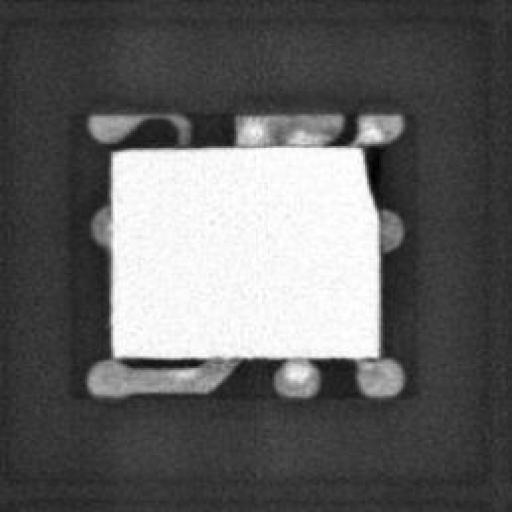DIE_BROKEN: (355, 139, 383, 218)
